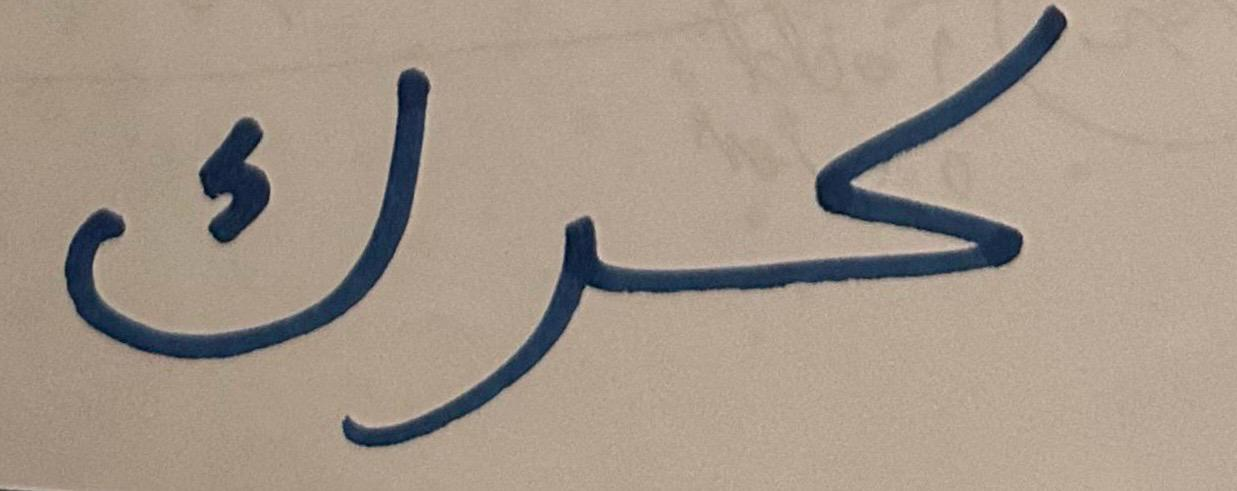khah: (696, 6, 1159, 406), (8, 17, 444, 385)
sad: (451, 105, 685, 467)
